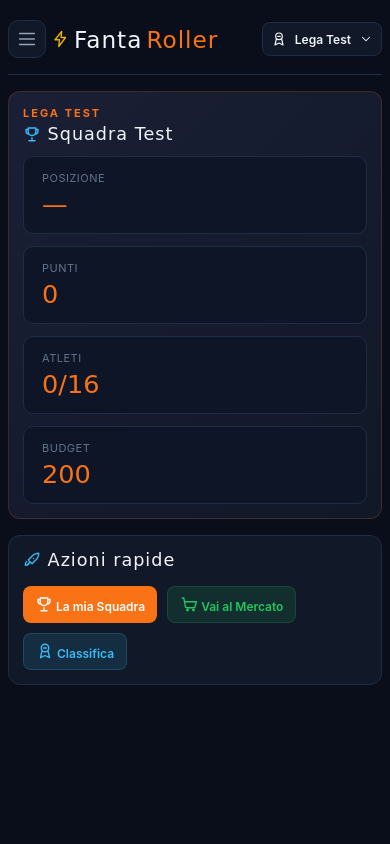
Test: shows the 2027 market category, rating and price
This screenshot has width=390, height=844.
Expected: the 1st text "Lega Test" is shown, [295,32,351,46]
Click the button named "Apri il menu".
click(27, 39)  # box [8,20,46,58]
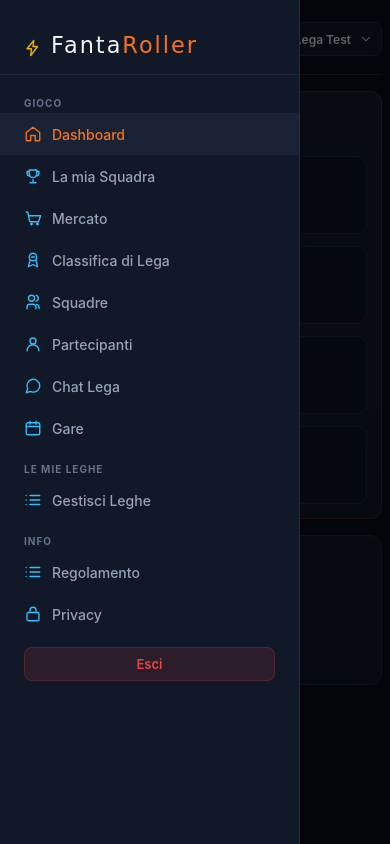
Click the text "Mercato".
click(66, 218)  # box [24,209,107,227]
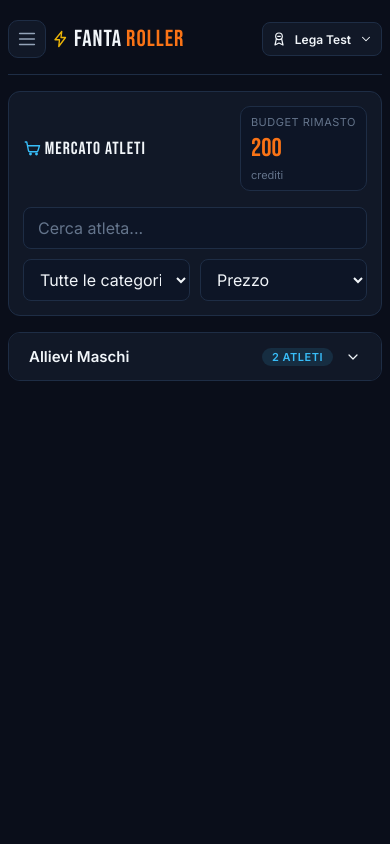
Result: the text "Mercato Atleti" is shown at [23,138,146,159]
Select "Allievi Maschi" in the 1st dropdown showing "Tutte le categorie" at coordinates (106, 280), box [23,259,190,301]
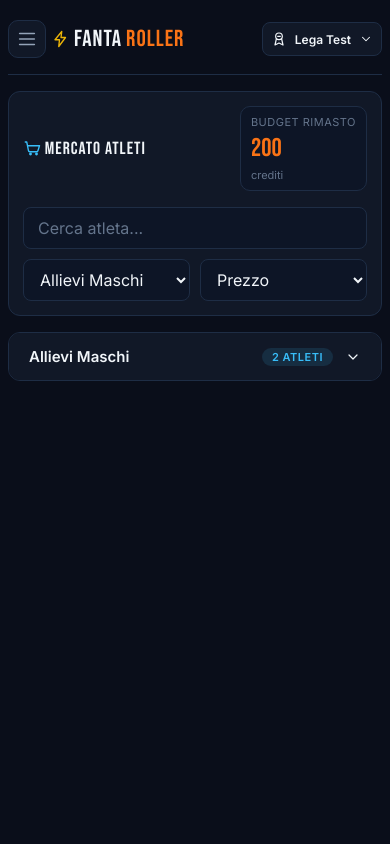
Click the text "Allievi Maschi".
click(79, 356)  # box [29,347,129,366]
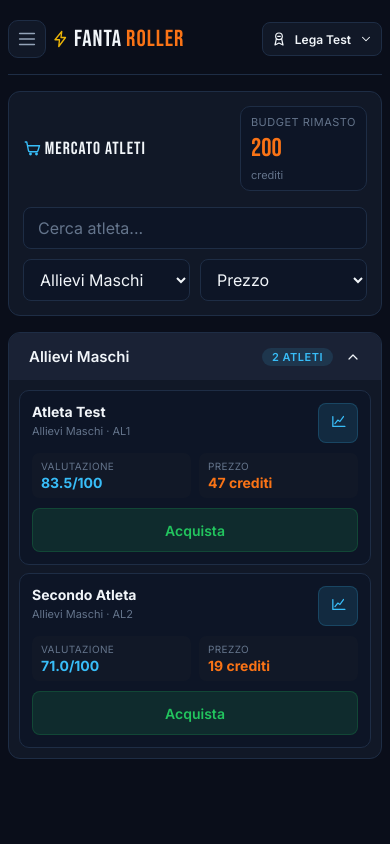
Result: the text "83.5/100" is shown 2 times
Result: the text "Allievi Maschi · AL1" is shown 2 times
